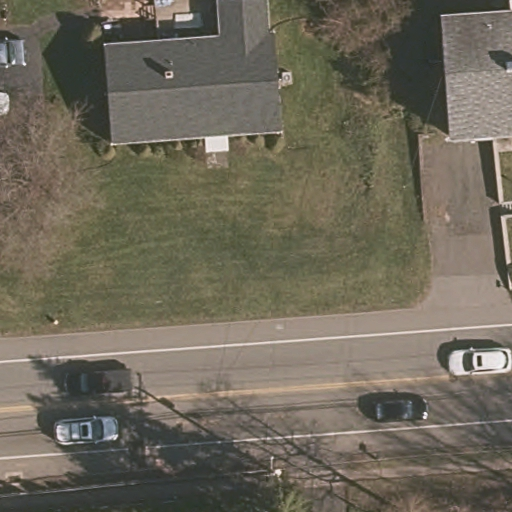DT: (253, 449, 297, 492)
